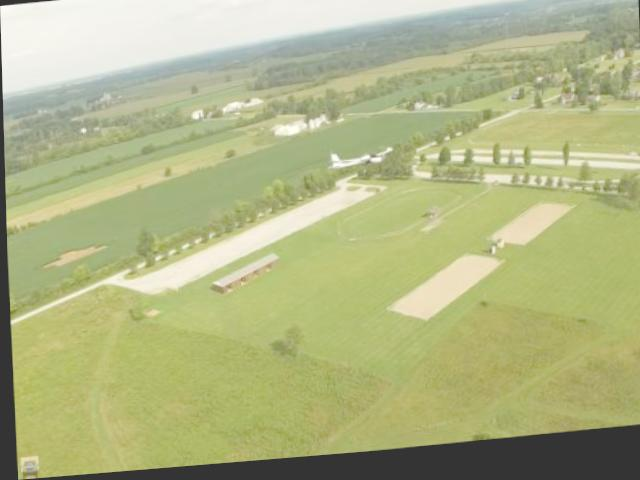uav: (319, 141, 398, 186)
